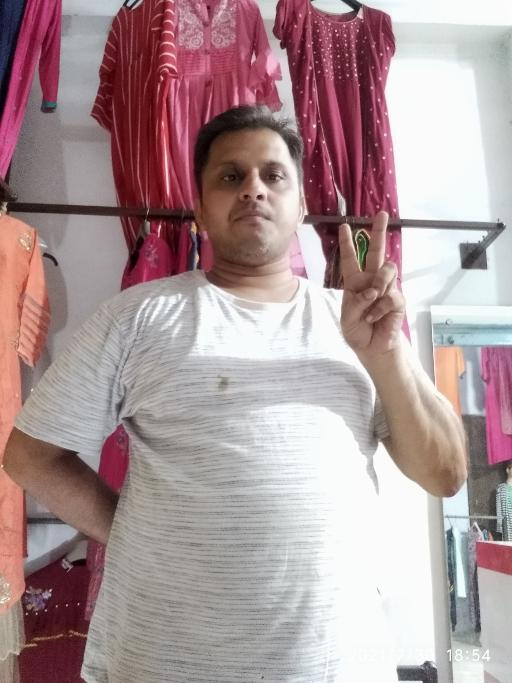peace: (334, 208, 410, 352)
